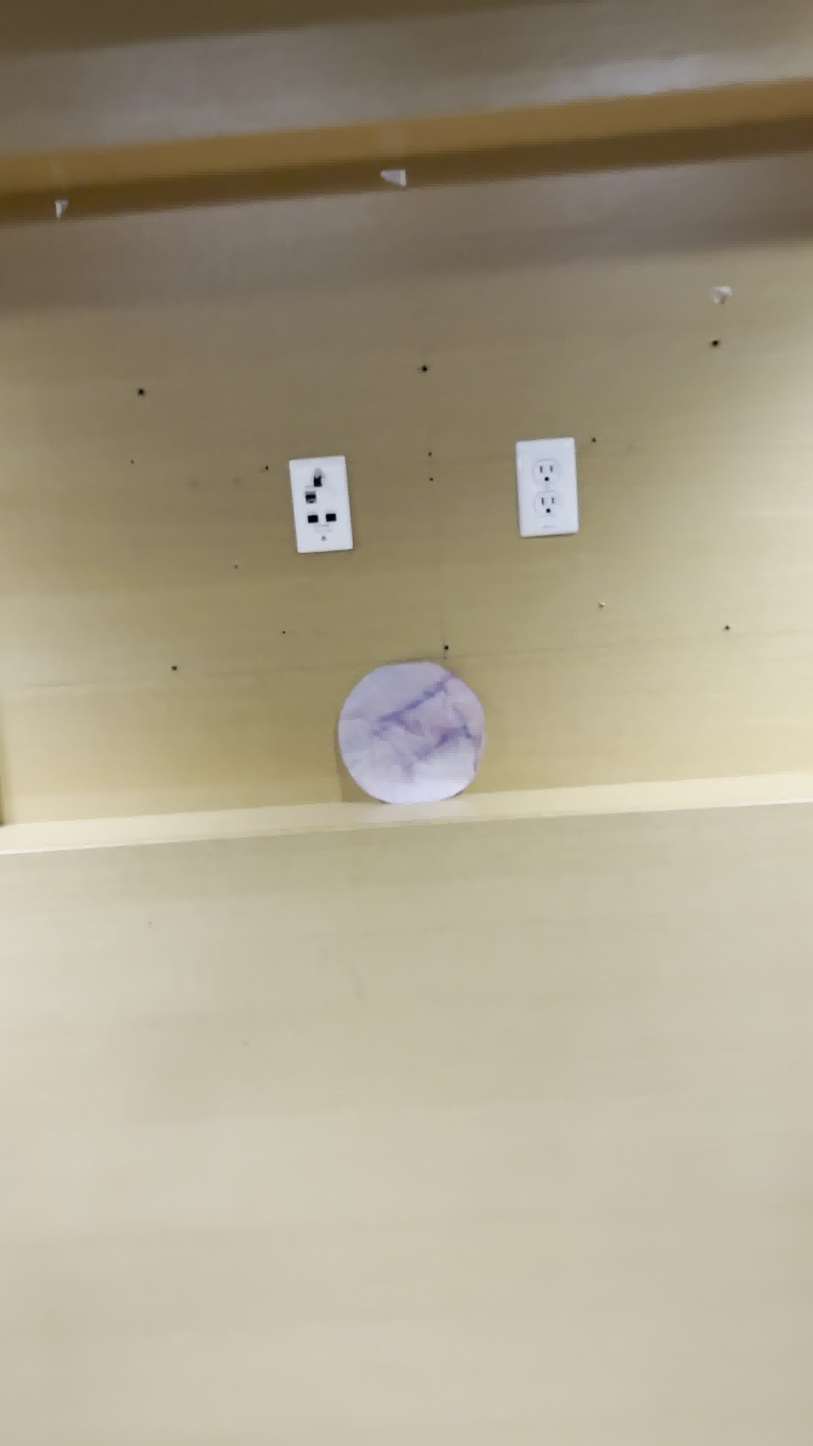Target: (328, 665, 482, 800)
